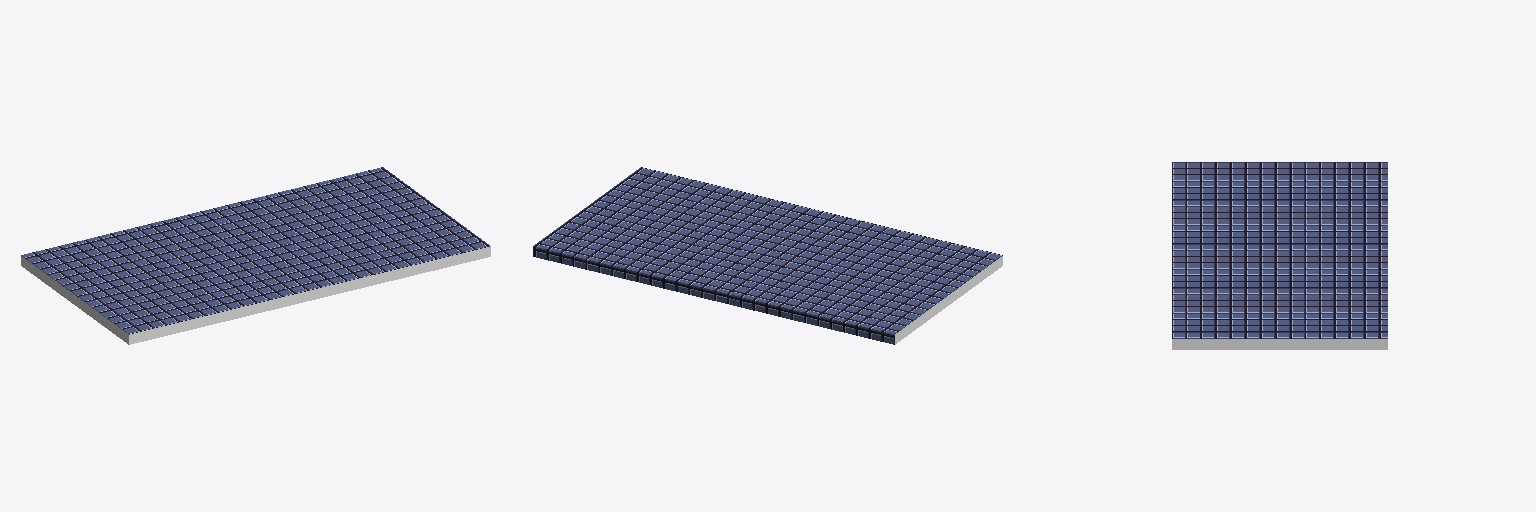
3 renders of one model, left to right at view 1: azimuth 30°, elevation 25°; view 2: azimuth 150°, elevation 25°; view 3: azimuth 270°, elevation 25°, orthographic.
Visible parts, largest first — view 1: Cube; view 2: Cube; view 3: Cube.
Part boxes in pixels (bbox=[...]): Cube: bbox=[21, 167, 490, 344]; Cube: bbox=[533, 167, 1002, 344]; Cube: bbox=[1172, 162, 1387, 349].
Bounding box in the file's own units: 28.11 × 0.7704 × 14.57.
2 materials, 1 textured.